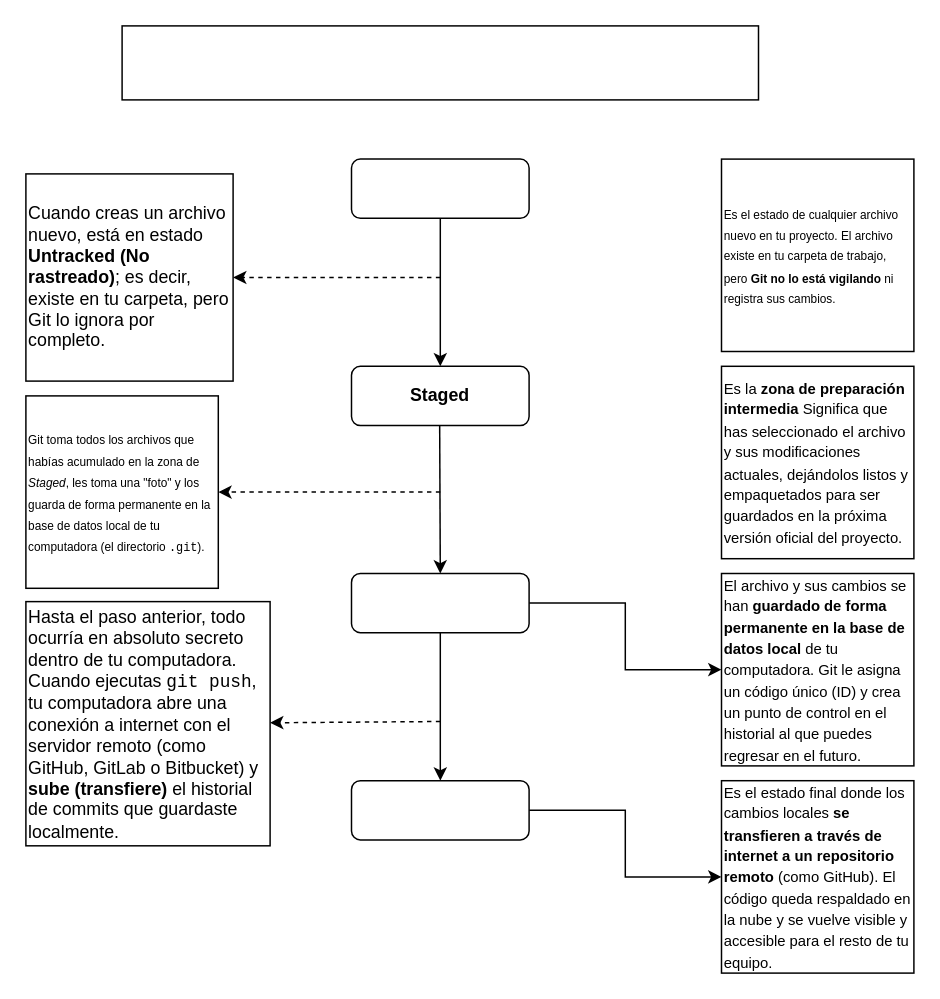
Image size: 940x999. Some labels were removed from this diagram. The shapes that lost their labels are listed below. From the top down, each one's box as (x1, y1, x2, y2) in pixels, then its label:
(121, 24, 758, 100): El ciclo de vida de un archivo en Git
(350, 158, 529, 218): Untracked
(350, 572, 529, 633): Committed
(350, 779, 529, 840): Pushed
